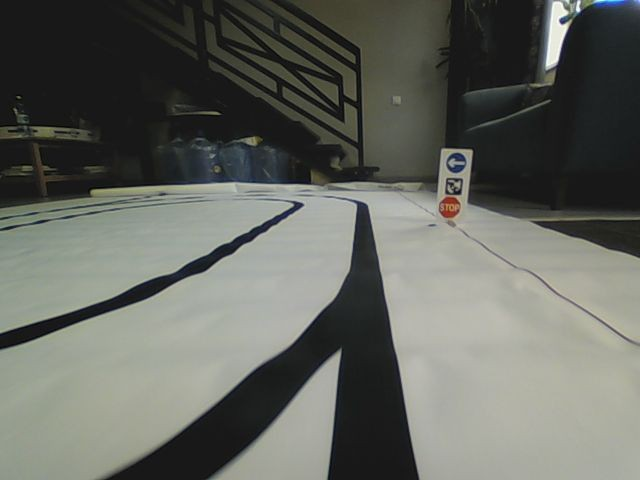Stop: (438, 195, 461, 219)
